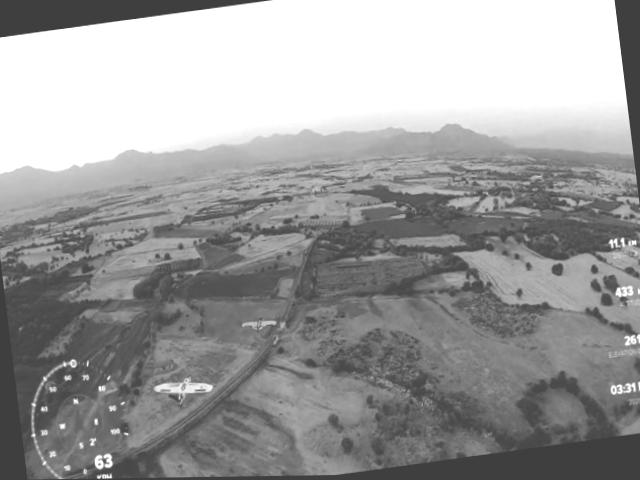hedef: (143, 368, 222, 416)
